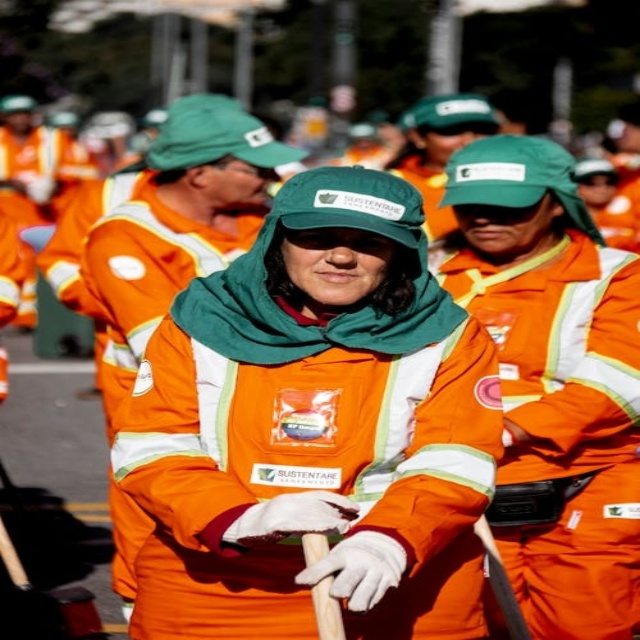Gafas: (427, 122, 495, 136)
Guantes: (297, 528, 409, 612), (218, 489, 358, 552)
Sin_gafas: (289, 230, 385, 261)
Sin_mascara: (298, 265, 371, 302), (462, 224, 515, 253)
